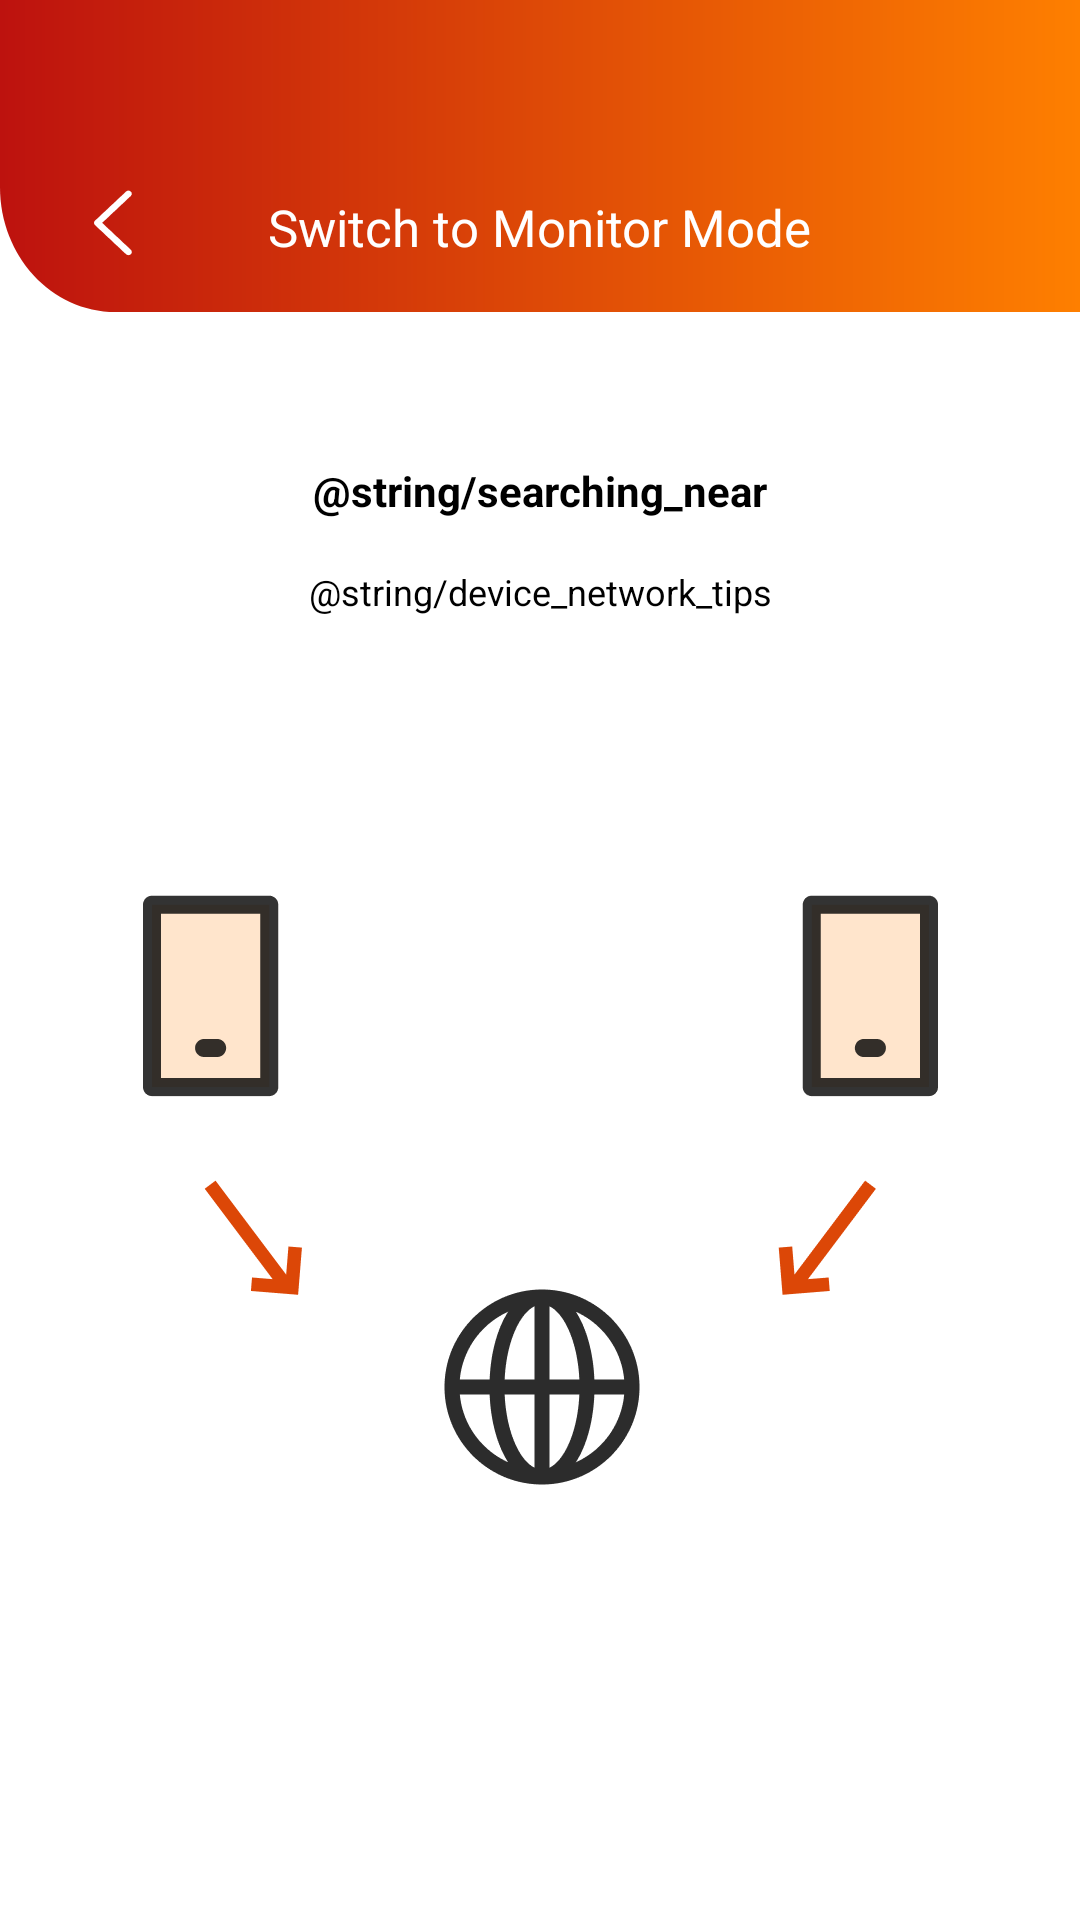

Screen size 1080 × 1920. Icon name, then its center in pixels as [x,y]:
back: [113,223]
